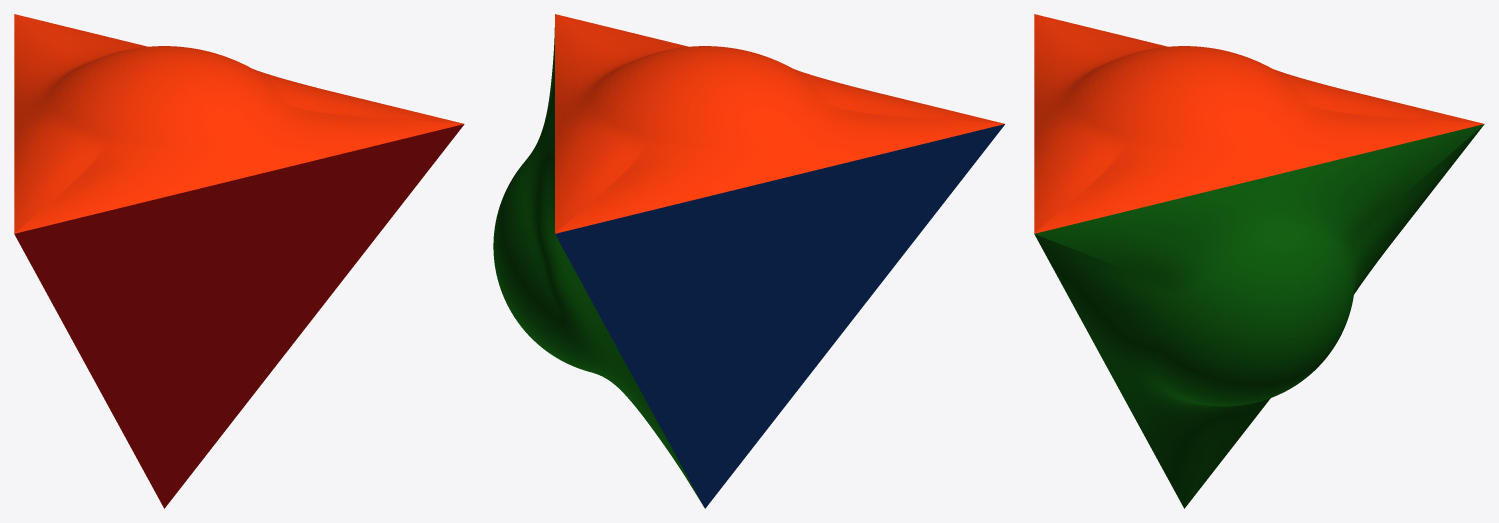
Rendered from 2_0_0_3_tetrahedron.obj.
3 renders of one model, left to right at view 1: azimuth 30°, elevation 25°; view 2: azimuth 150°, elevation 25°; view 3: azimuth 270°, elevation 25°, orthographic.
Visible parts, largest first — view 1: Level_0_-_level_0_front, Level_2_-_level_2_top_Level_2_-_level_2_top.001; view 2: Level_0_-_level_0_left, Level_2_-_level_2_top_Level_2_-_level_2_top.001, Level_3_-_level_3_right_Level_3_-_level_3_right.001; view 3: Level_3_-_level_3_right_Level_3_-_level_3_right.001, Level_2_-_level_2_top_Level_2_-_level_2_top.001.
Part boxes in pixels (box(x1,y1,x2,y2)): Level_0_-_level_0_front: box(14, 124, 464, 508); Level_2_-_level_2_top_Level_2_-_level_2_top.001: box(14, 14, 463, 233); Level_0_-_level_0_left: box(555, 124, 1004, 508); Level_2_-_level_2_top_Level_2_-_level_2_top.001: box(555, 14, 1004, 233); Level_3_-_level_3_right_Level_3_-_level_3_right.001: box(493, 27, 703, 506); Level_3_-_level_3_right_Level_3_-_level_3_right.001: box(1034, 124, 1484, 508); Level_2_-_level_2_top_Level_2_-_level_2_top.001: box(1034, 14, 1483, 233).
Bounding box in the file's own units: 0.1 × 0.0946 × 0.0866.
